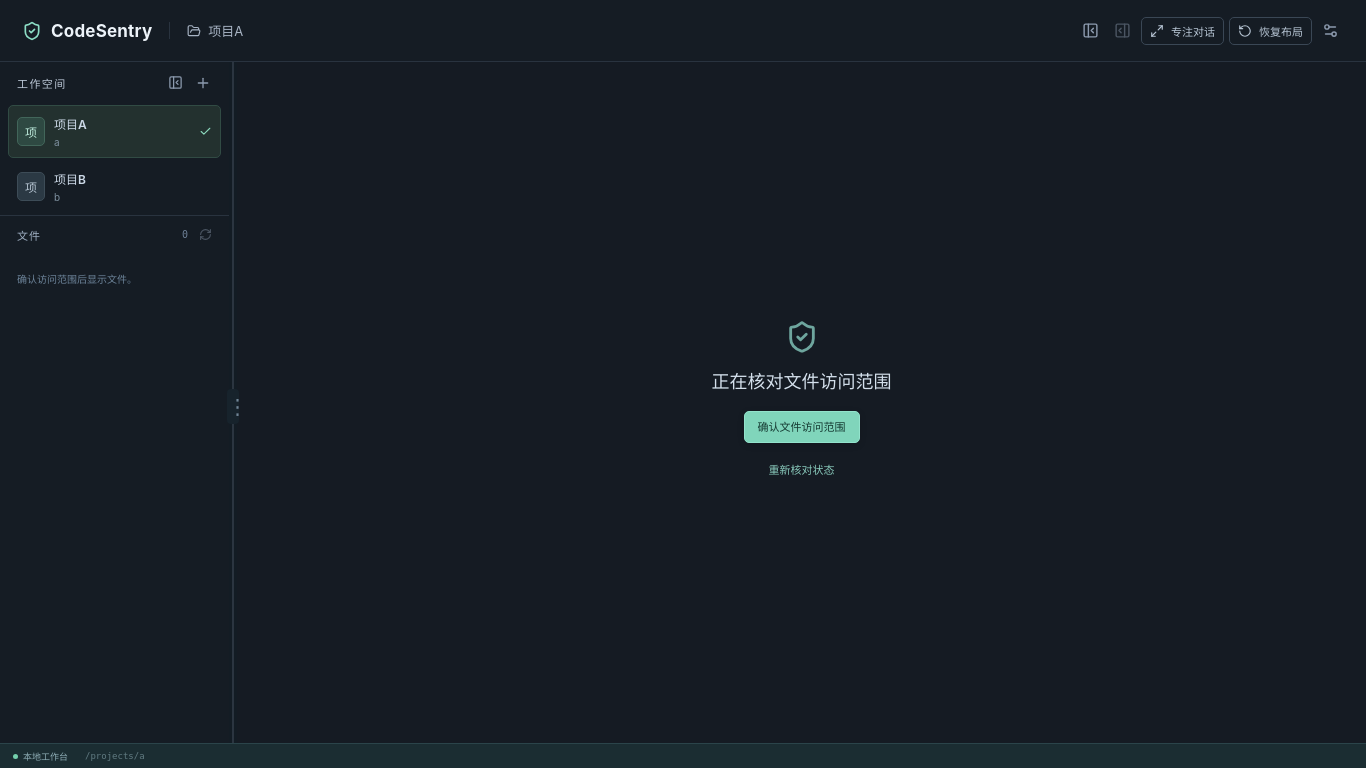
Test: workspace navigation under delayed requests › ignores an old project file list after switching projects
Click the button "项 项目B b". click: click(114, 186)
box: [8,160,221,213]
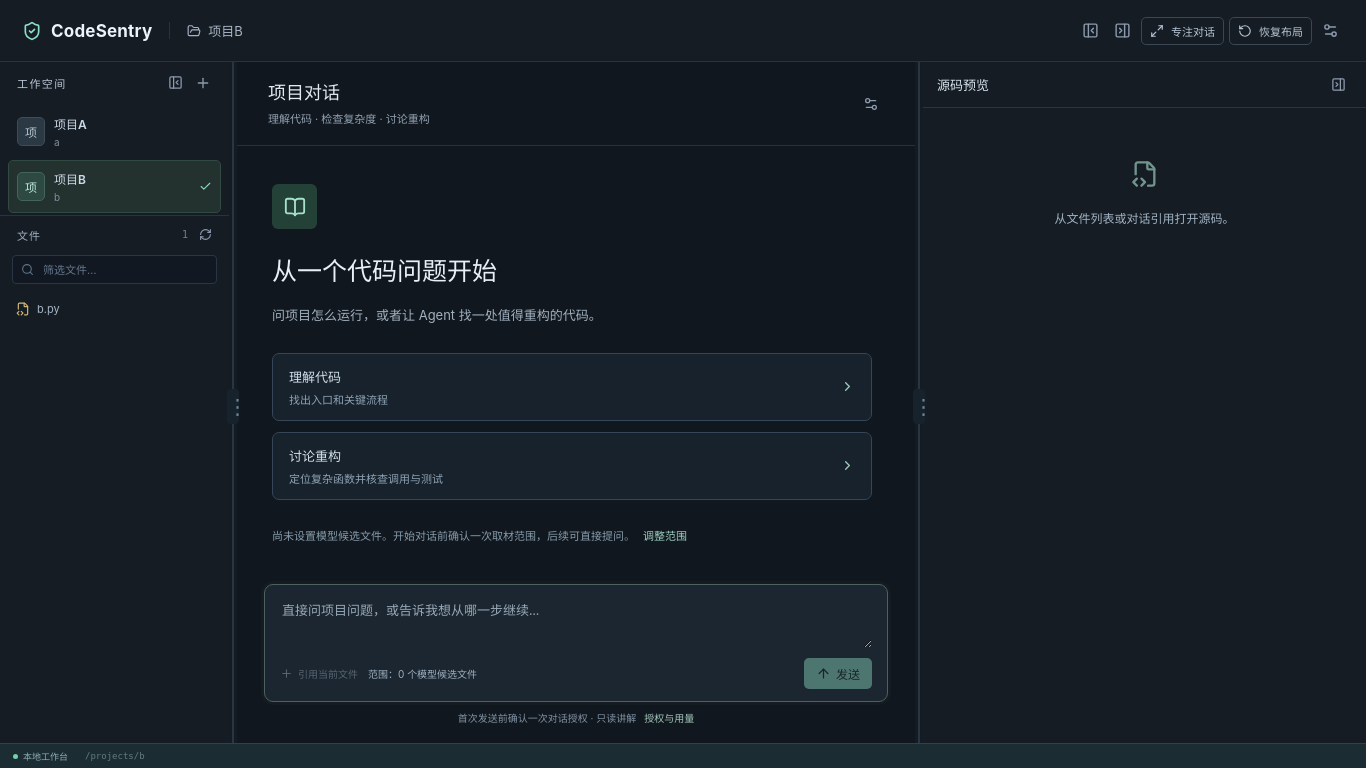
Check: the list item with aria-label "打开 b.py" is shown, box [0,295,229,322]
Check: the element with test id "project-chat" is shown, box [237,62,915,743]
